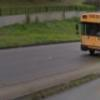buses: (75, 10, 100, 58)
